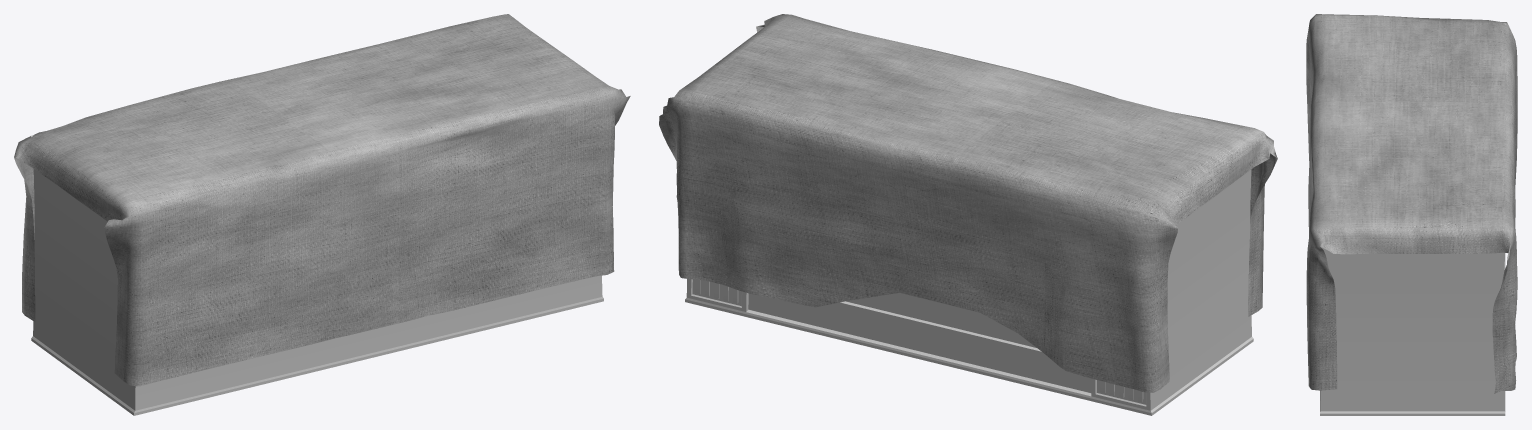
Rendered from DAMAGED GOODS 9.fbx.
3 renders of one model, left to right at view 1: azimuth 30°, elevation 25°; view 2: azimuth 150°, elevation 25°; view 3: azimuth 270°, elevation 25°, orthographic. The views are drawn at different scales.
Parts seen in each view (by area): view 1: DAMAGED GOODS 9; view 2: DAMAGED GOODS 9; view 3: DAMAGED GOODS 9.
Part boxes in pixels (x1,y1,x2,y2): DAMAGED GOODS 9: [14, 14, 630, 415]; DAMAGED GOODS 9: [659, 14, 1277, 415]; DAMAGED GOODS 9: [1306, 14, 1517, 415].
Size of the model in its own units: 1.53 by 0.601 by 0.5901.
